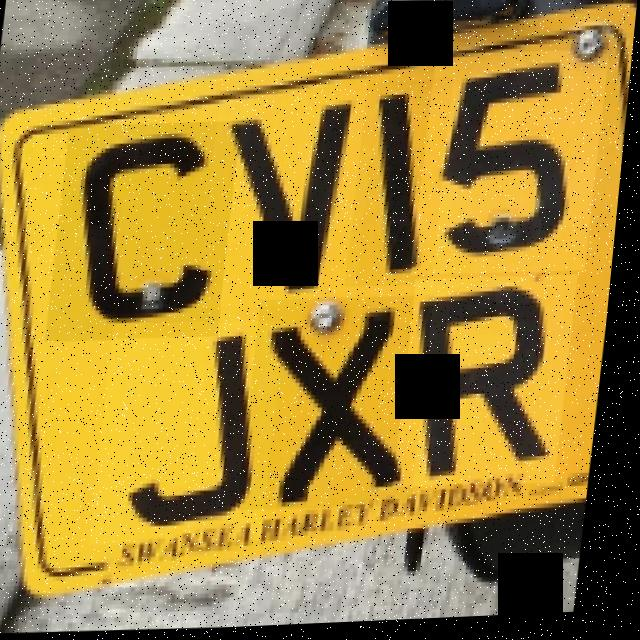5: (437, 56, 591, 277)
C: (71, 124, 227, 340)
I: (369, 84, 438, 289)
J: (118, 324, 273, 545)
R: (422, 282, 566, 490)
V: (221, 96, 363, 308)
X: (265, 300, 424, 512)
